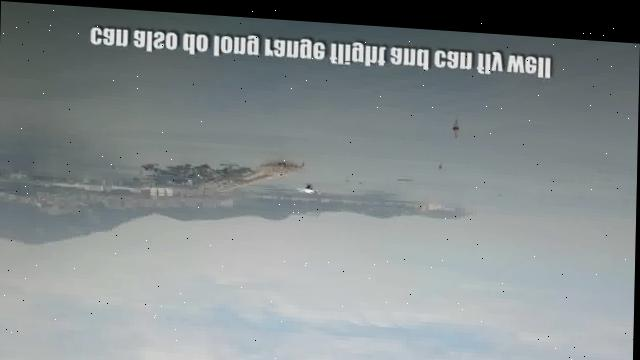drone: (293, 179, 319, 193)
